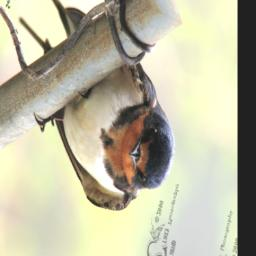Swallow: (0, 0, 198, 236)
